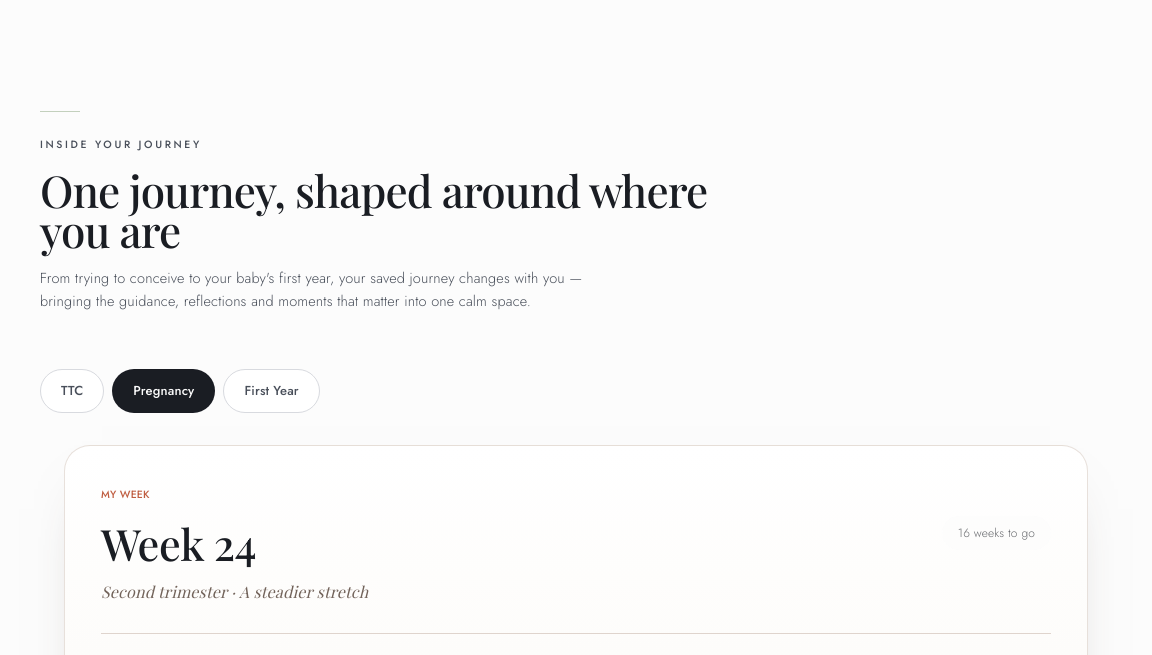
Test: homepage journey evolution › shows a switchable, clearly illustrative preview for each of the three journeys
The width and height of the screenshot is (1152, 655).
Expected: the text "My week" is shown, x1=101 y1=487 x2=150 y2=502
Click the tab "TTC" at (72, 391), box x1=40 y1=369 x2=104 y2=413
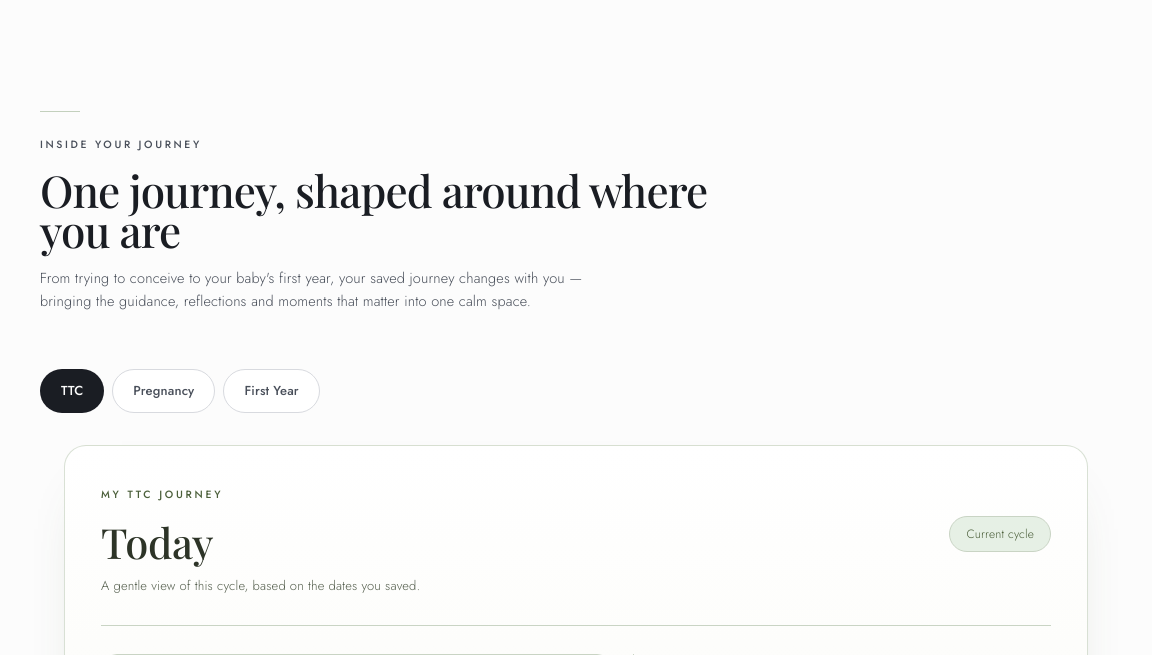
Now the text "My TTC journey" is shown, box x1=101 y1=487 x2=223 y2=502
Click the tab "First Year" at (272, 391), box x1=223 y1=369 x2=320 y2=413
(page scrolled)
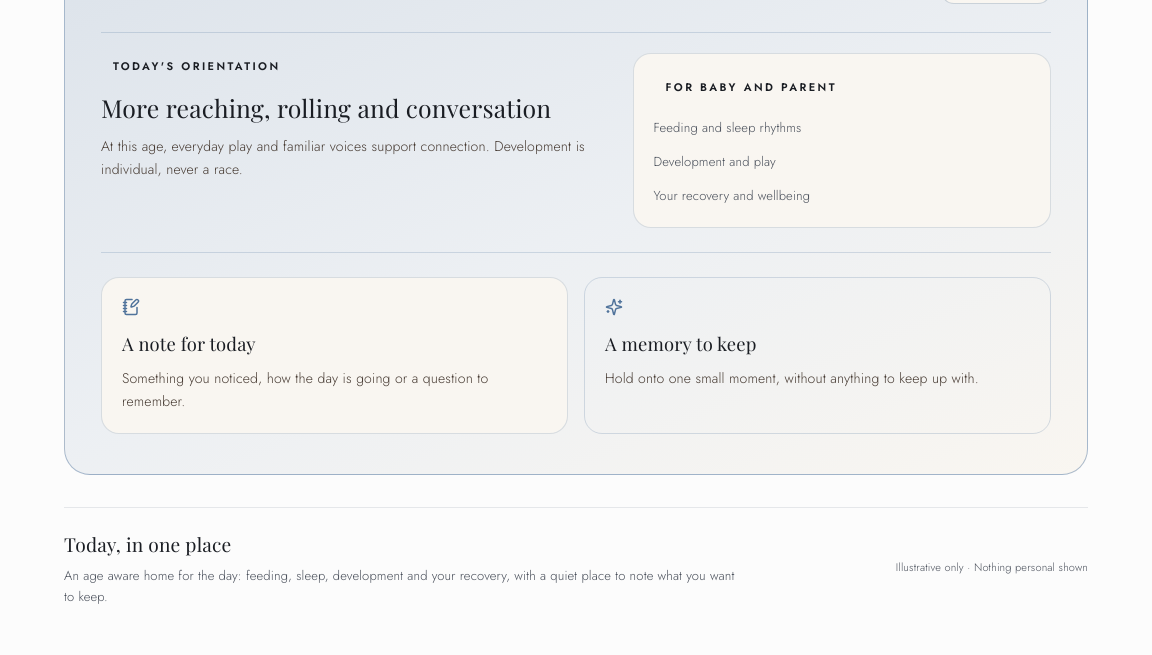
Expected: the text "Illustrative only · Nothing personal shown" is shown, x1=896 y1=558 x2=1088 y2=577
Now the text "A memory to keep" is shown, box x1=605 y1=331 x2=757 y2=356
